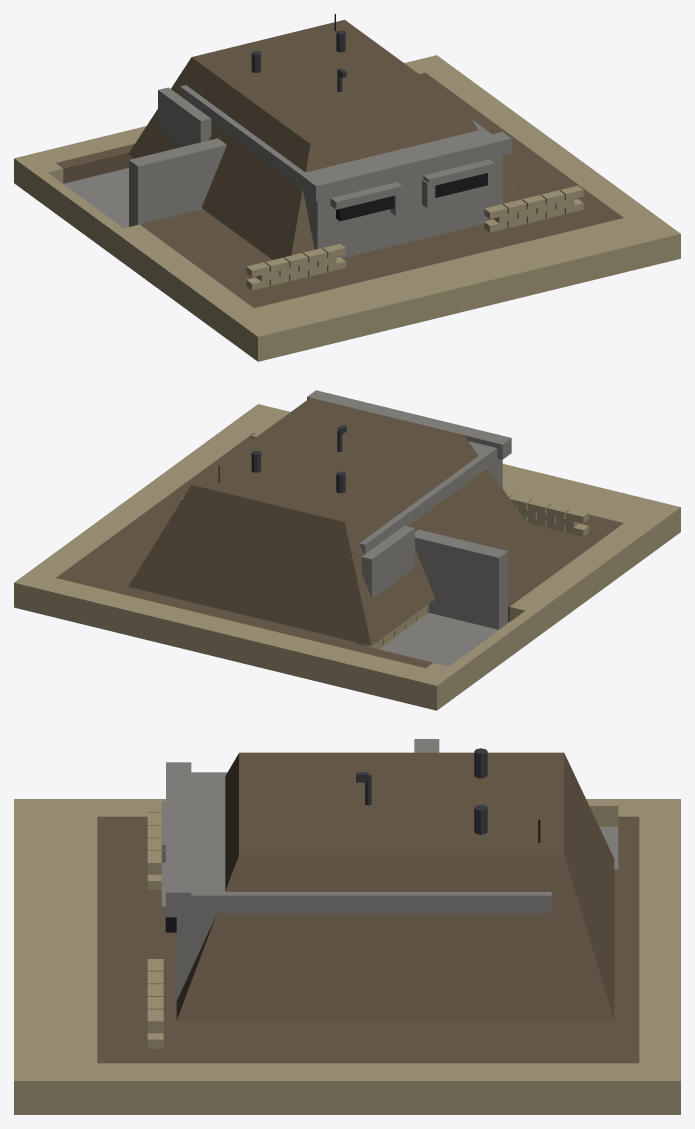
Rendered from Fort_Bunker.obj.
The picture shows the model from 3 angles, top to bottom: view 1: azimuth 30°, elevation 25°; view 2: azimuth 150°, elevation 25°; view 3: azimuth 270°, elevation 25°; orthographic projection. The views are drawn at different scales.
Size of the model in its own units: 16 by 5.3 by 16.
